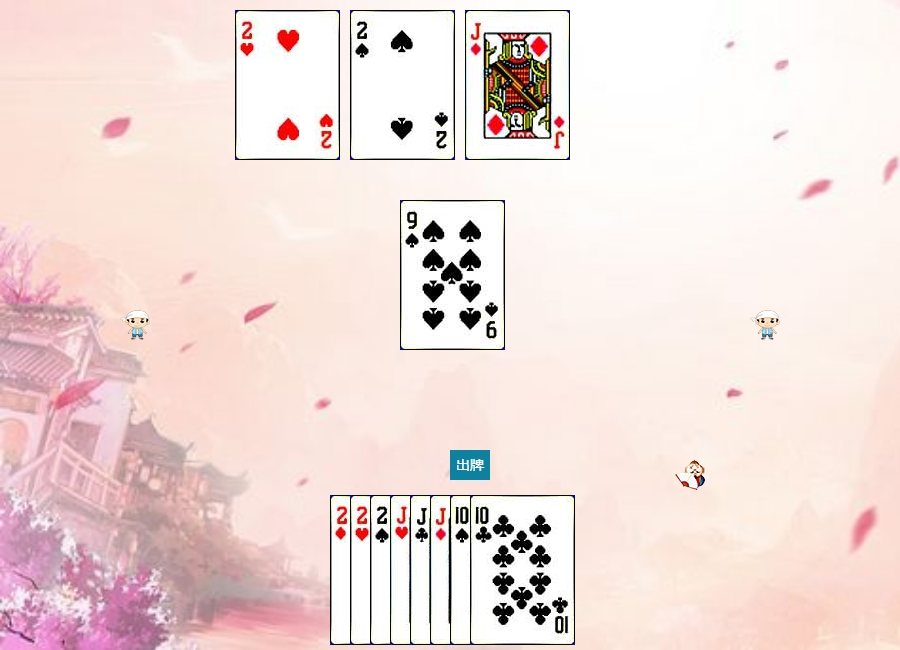10~2: (470, 495, 575, 645)
10~4: (450, 495, 555, 645)
11~1: (465, 10, 570, 160), (430, 495, 535, 645)
11~2: (410, 495, 515, 645)
11~3: (390, 495, 495, 645)
15~1: (330, 495, 435, 645)
15~3: (235, 10, 340, 160), (350, 495, 455, 645)
15~4: (350, 10, 455, 160), (370, 495, 475, 645)
9~4: (400, 200, 505, 350)
